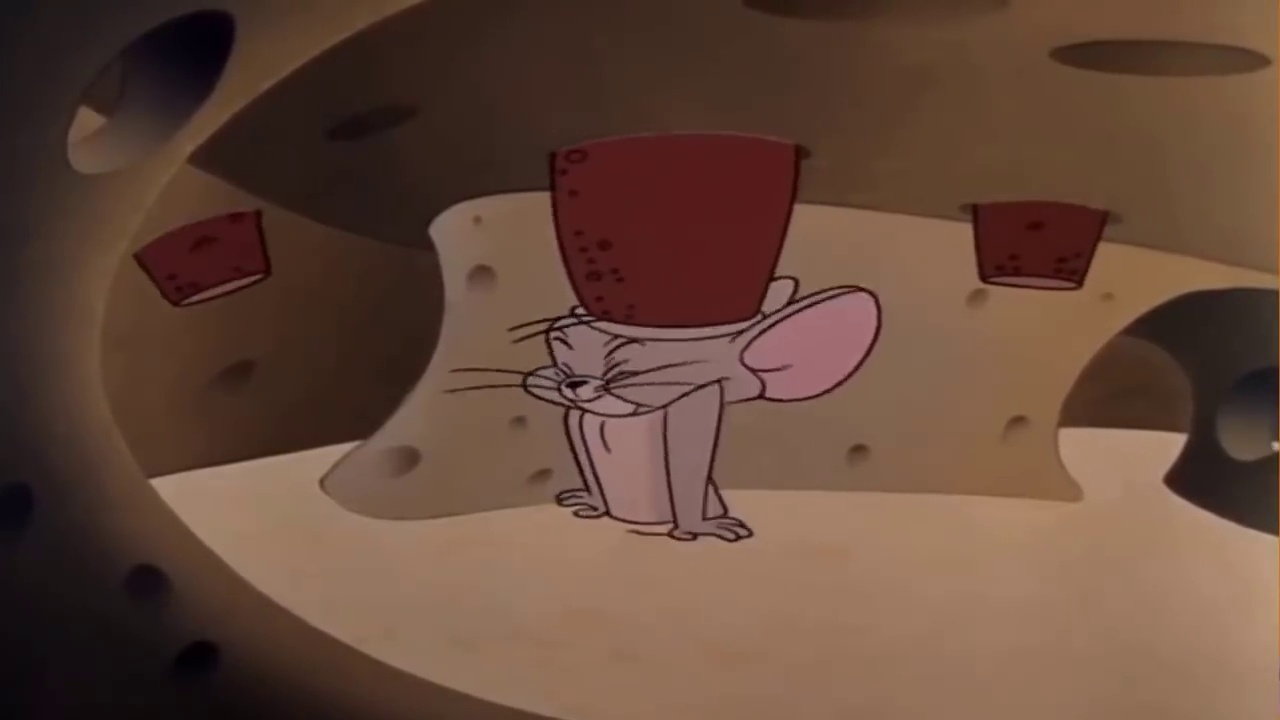face: (540, 329, 665, 418)
